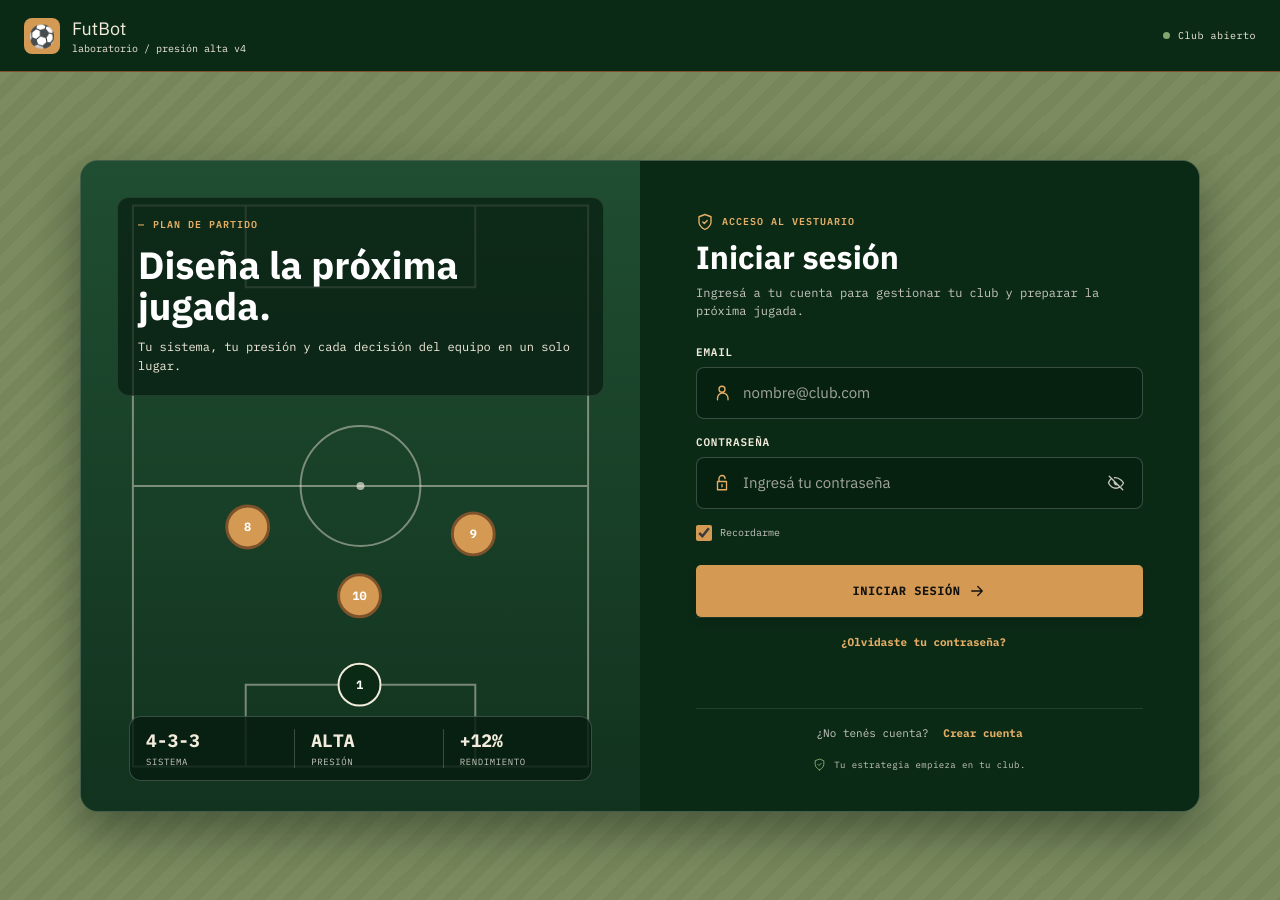
Test case: Verificación por correo › interpreta EMAIL_NOT_VERIFIED en login y ofrece reenviar al email utilizado
Type "user@example.com" into the field labelled "Email" at (934,393), box [743,368,1126,418]
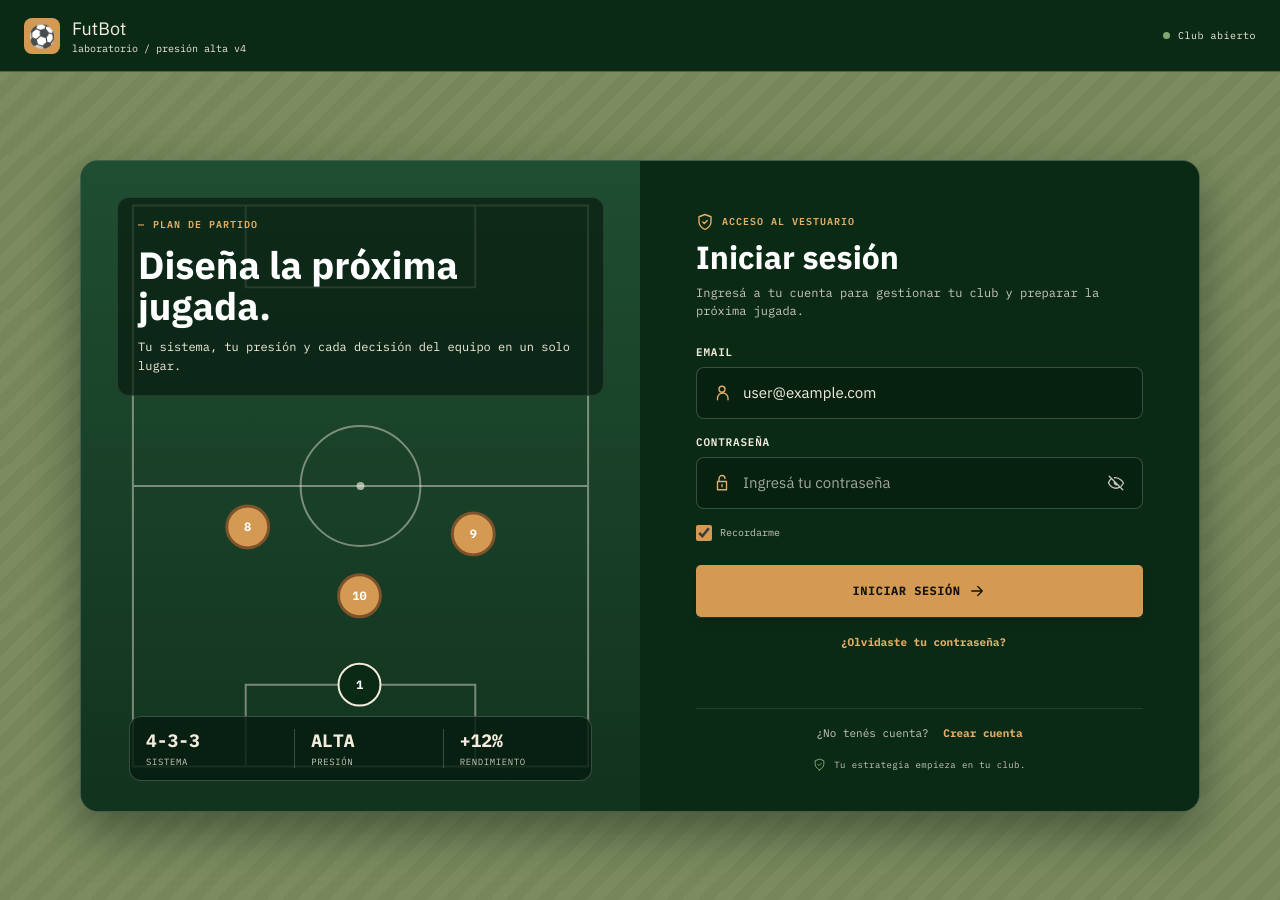
Type "password123" into the password field labelled "Contraseña" at (914,483), box [743,458,1086,508]
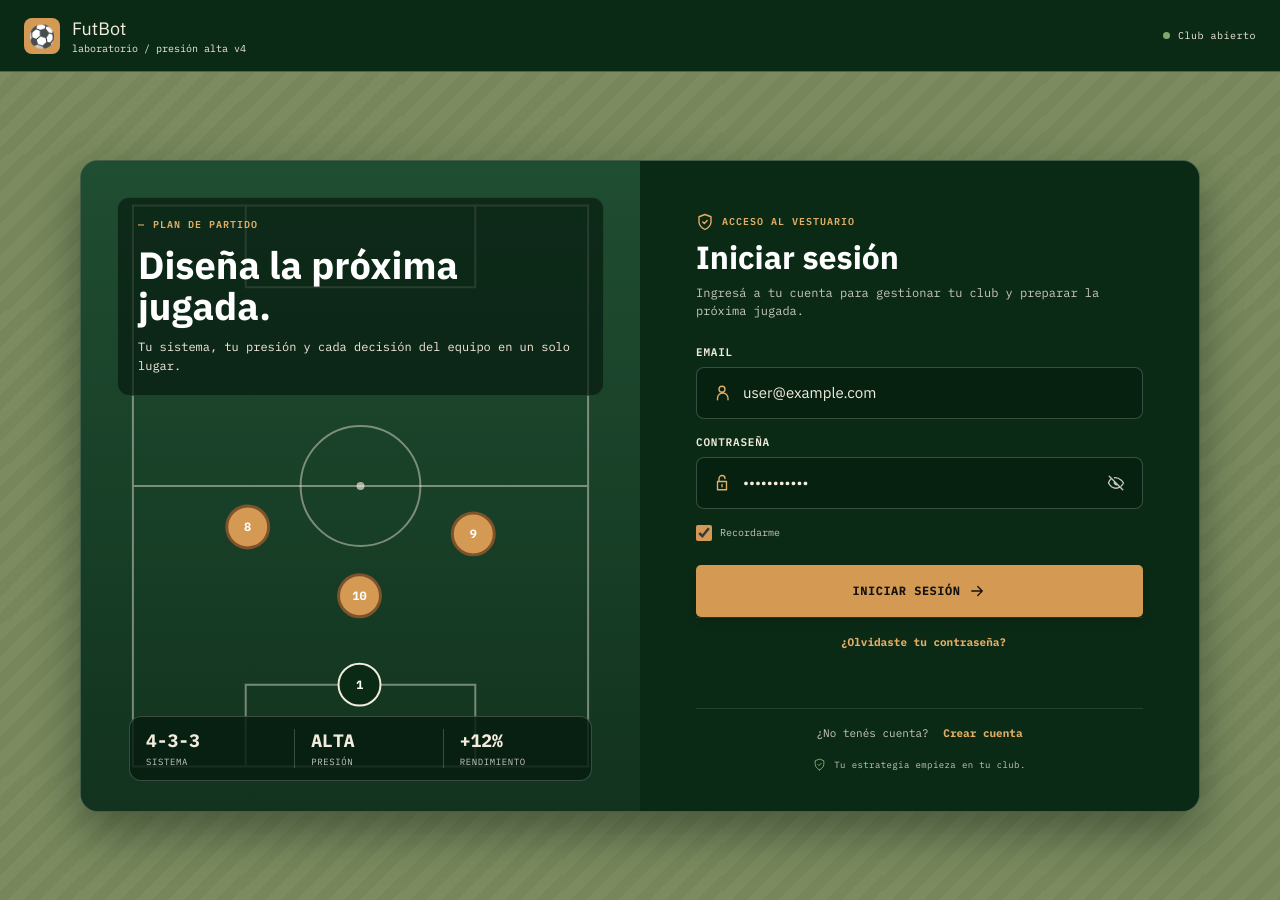
Click the button "Iniciar sesión" at (920,591), box [696,565,1143,617]
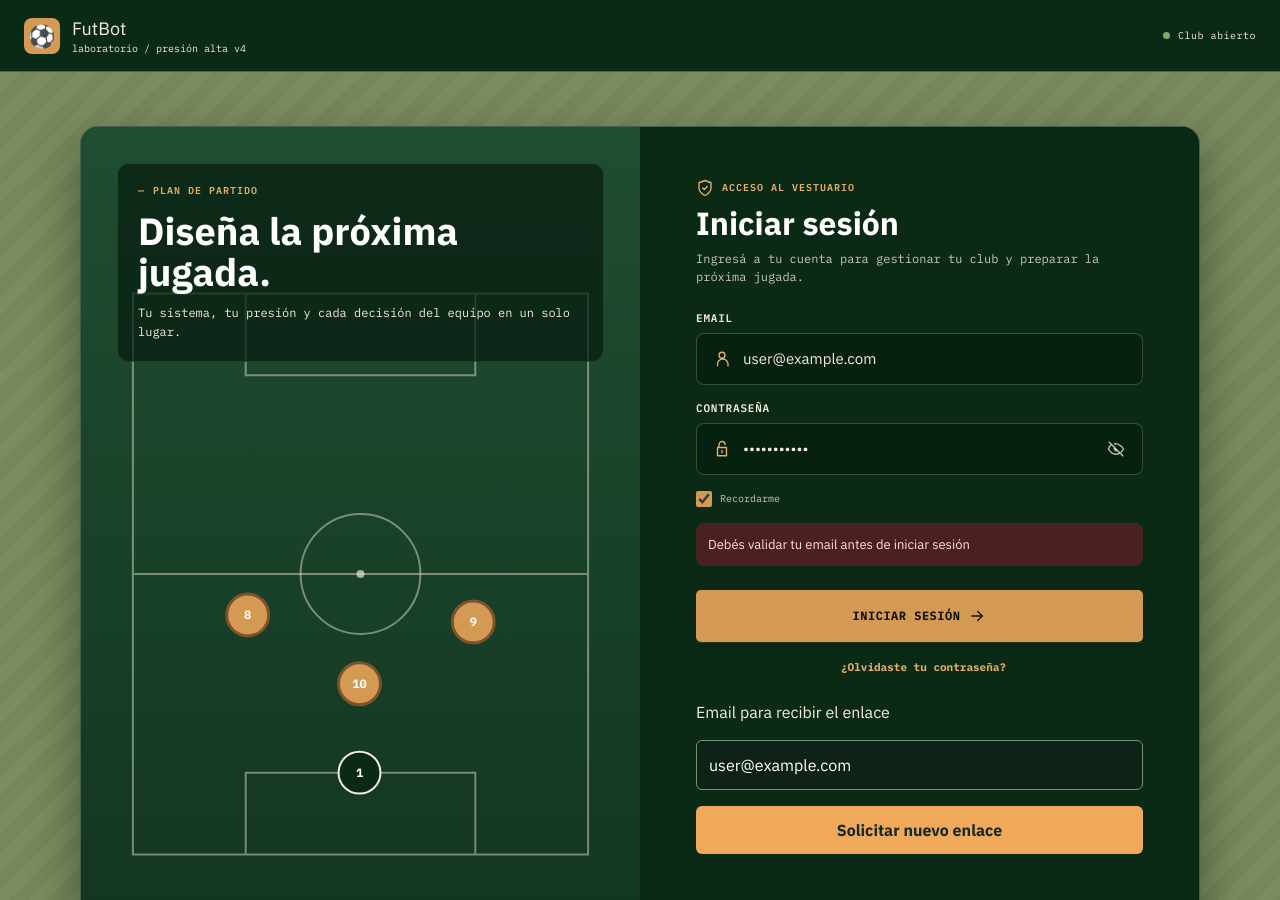
Expected: the message reads "Debés validar tu email antes de iniciar sesión", [708,536,970,553]
Expected: the field labelled "Email para recibir el enlace" holds "user@example.com", [696,740,1143,790]
Click the button "Solicitar nuevo enlace" at (920,830), box [696,806,1143,854]
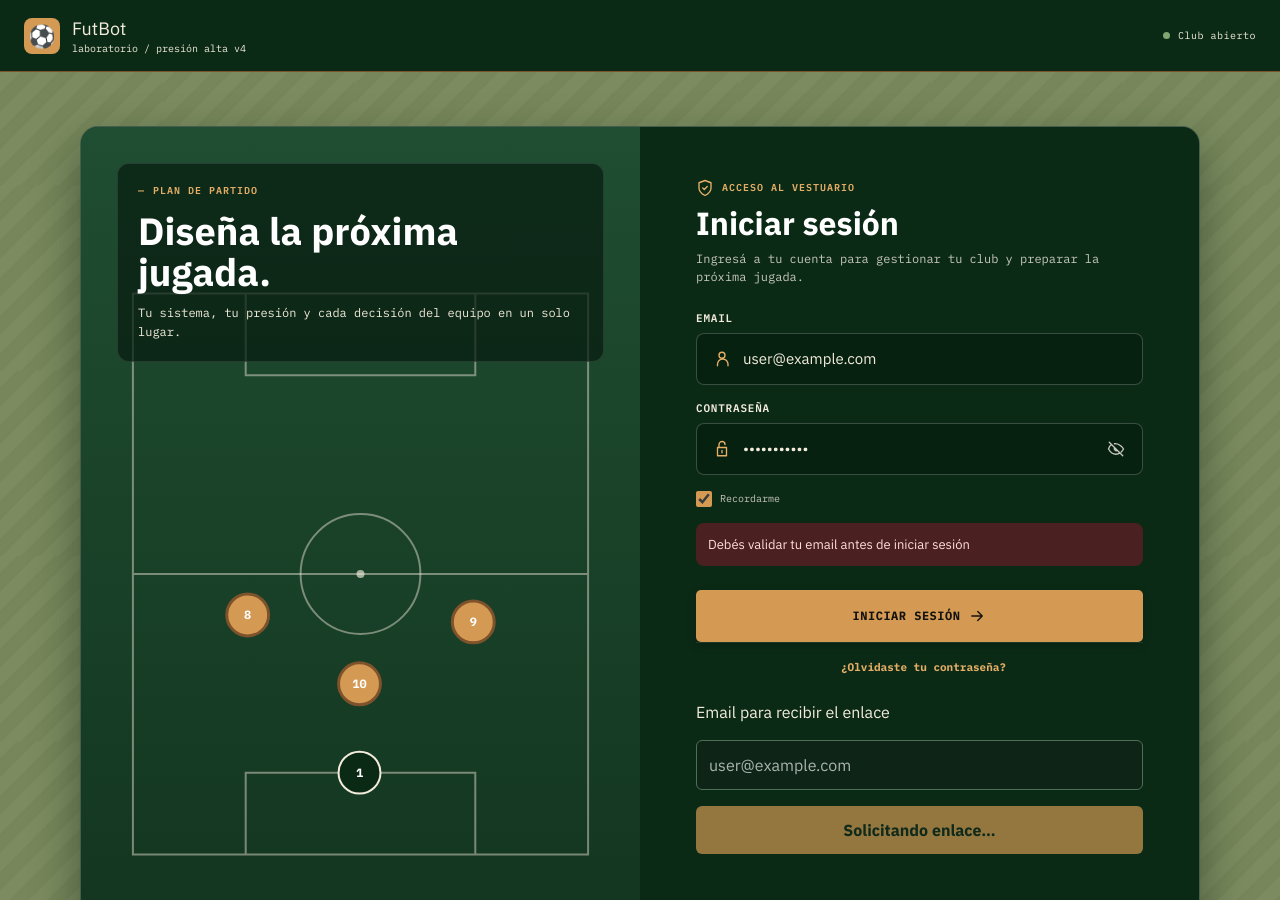
Expected: the button named "Solicitar nuevo enlace" is disabled
Click the button named "Solicitar nuevo enlace" at (920,830), box [696,806,1143,854]
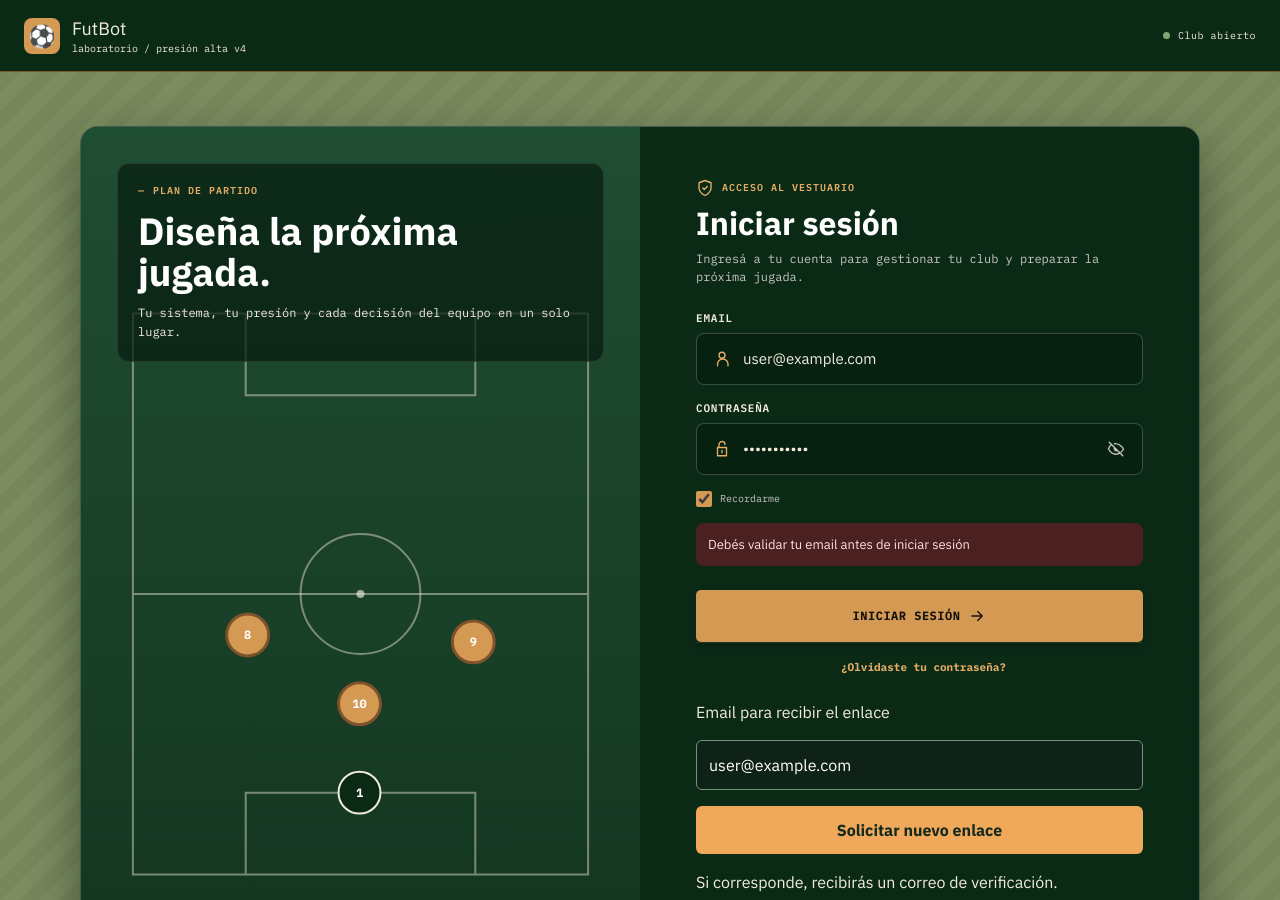
Expected: the button "Solicitar nuevo enlace" is enabled, [696,806,1143,854]
